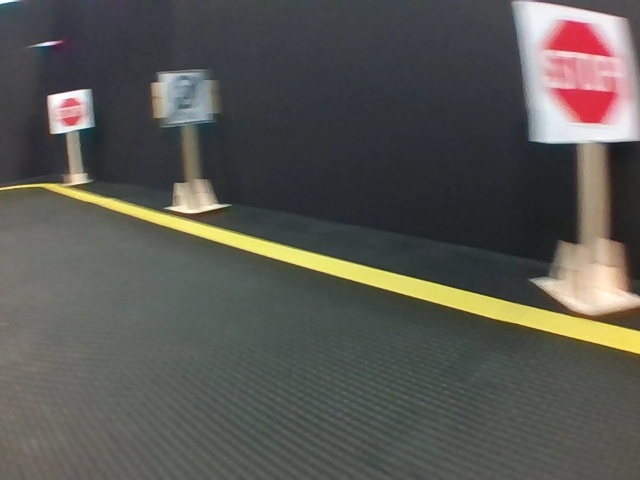no30: (161, 70, 211, 120)
stop: (523, 1, 638, 140), (49, 93, 92, 130)
